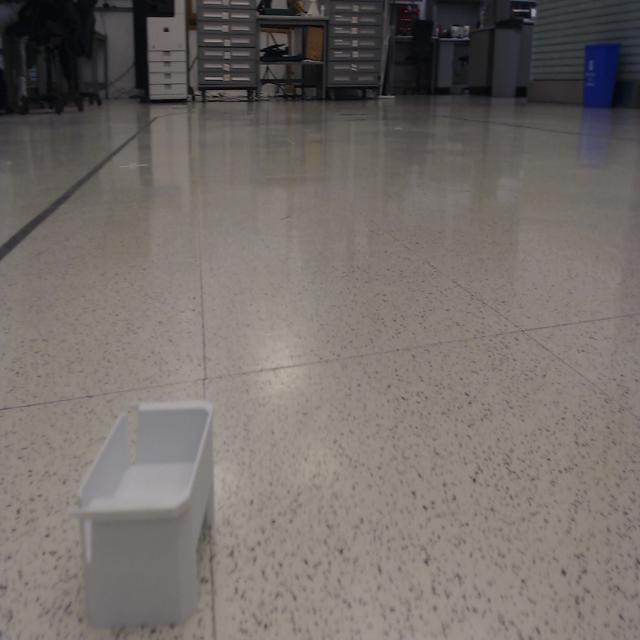wbox: (72, 392, 218, 628)
